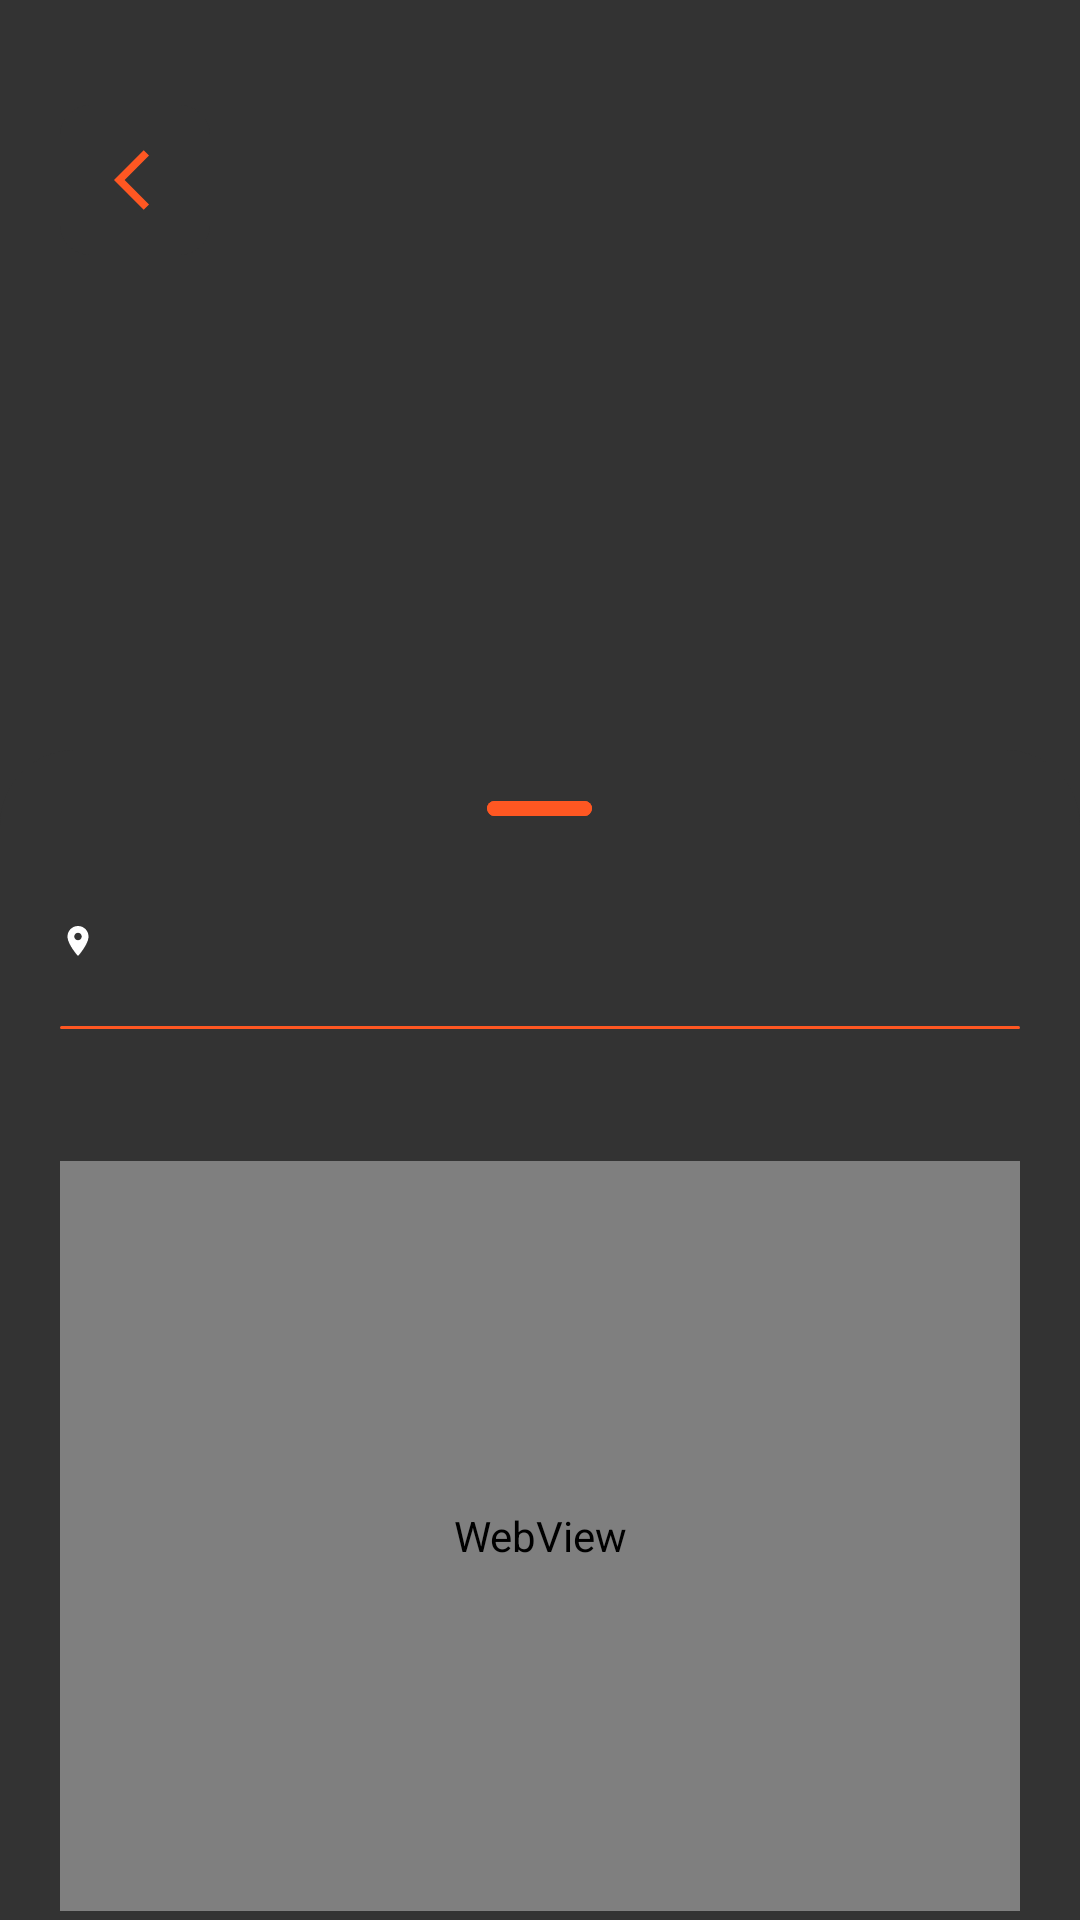

Named icons in this screenshot (1080w x 1920h) and their bounding boxes, (x1, y1, x2, y2):
location: (67, 926, 89, 956)
